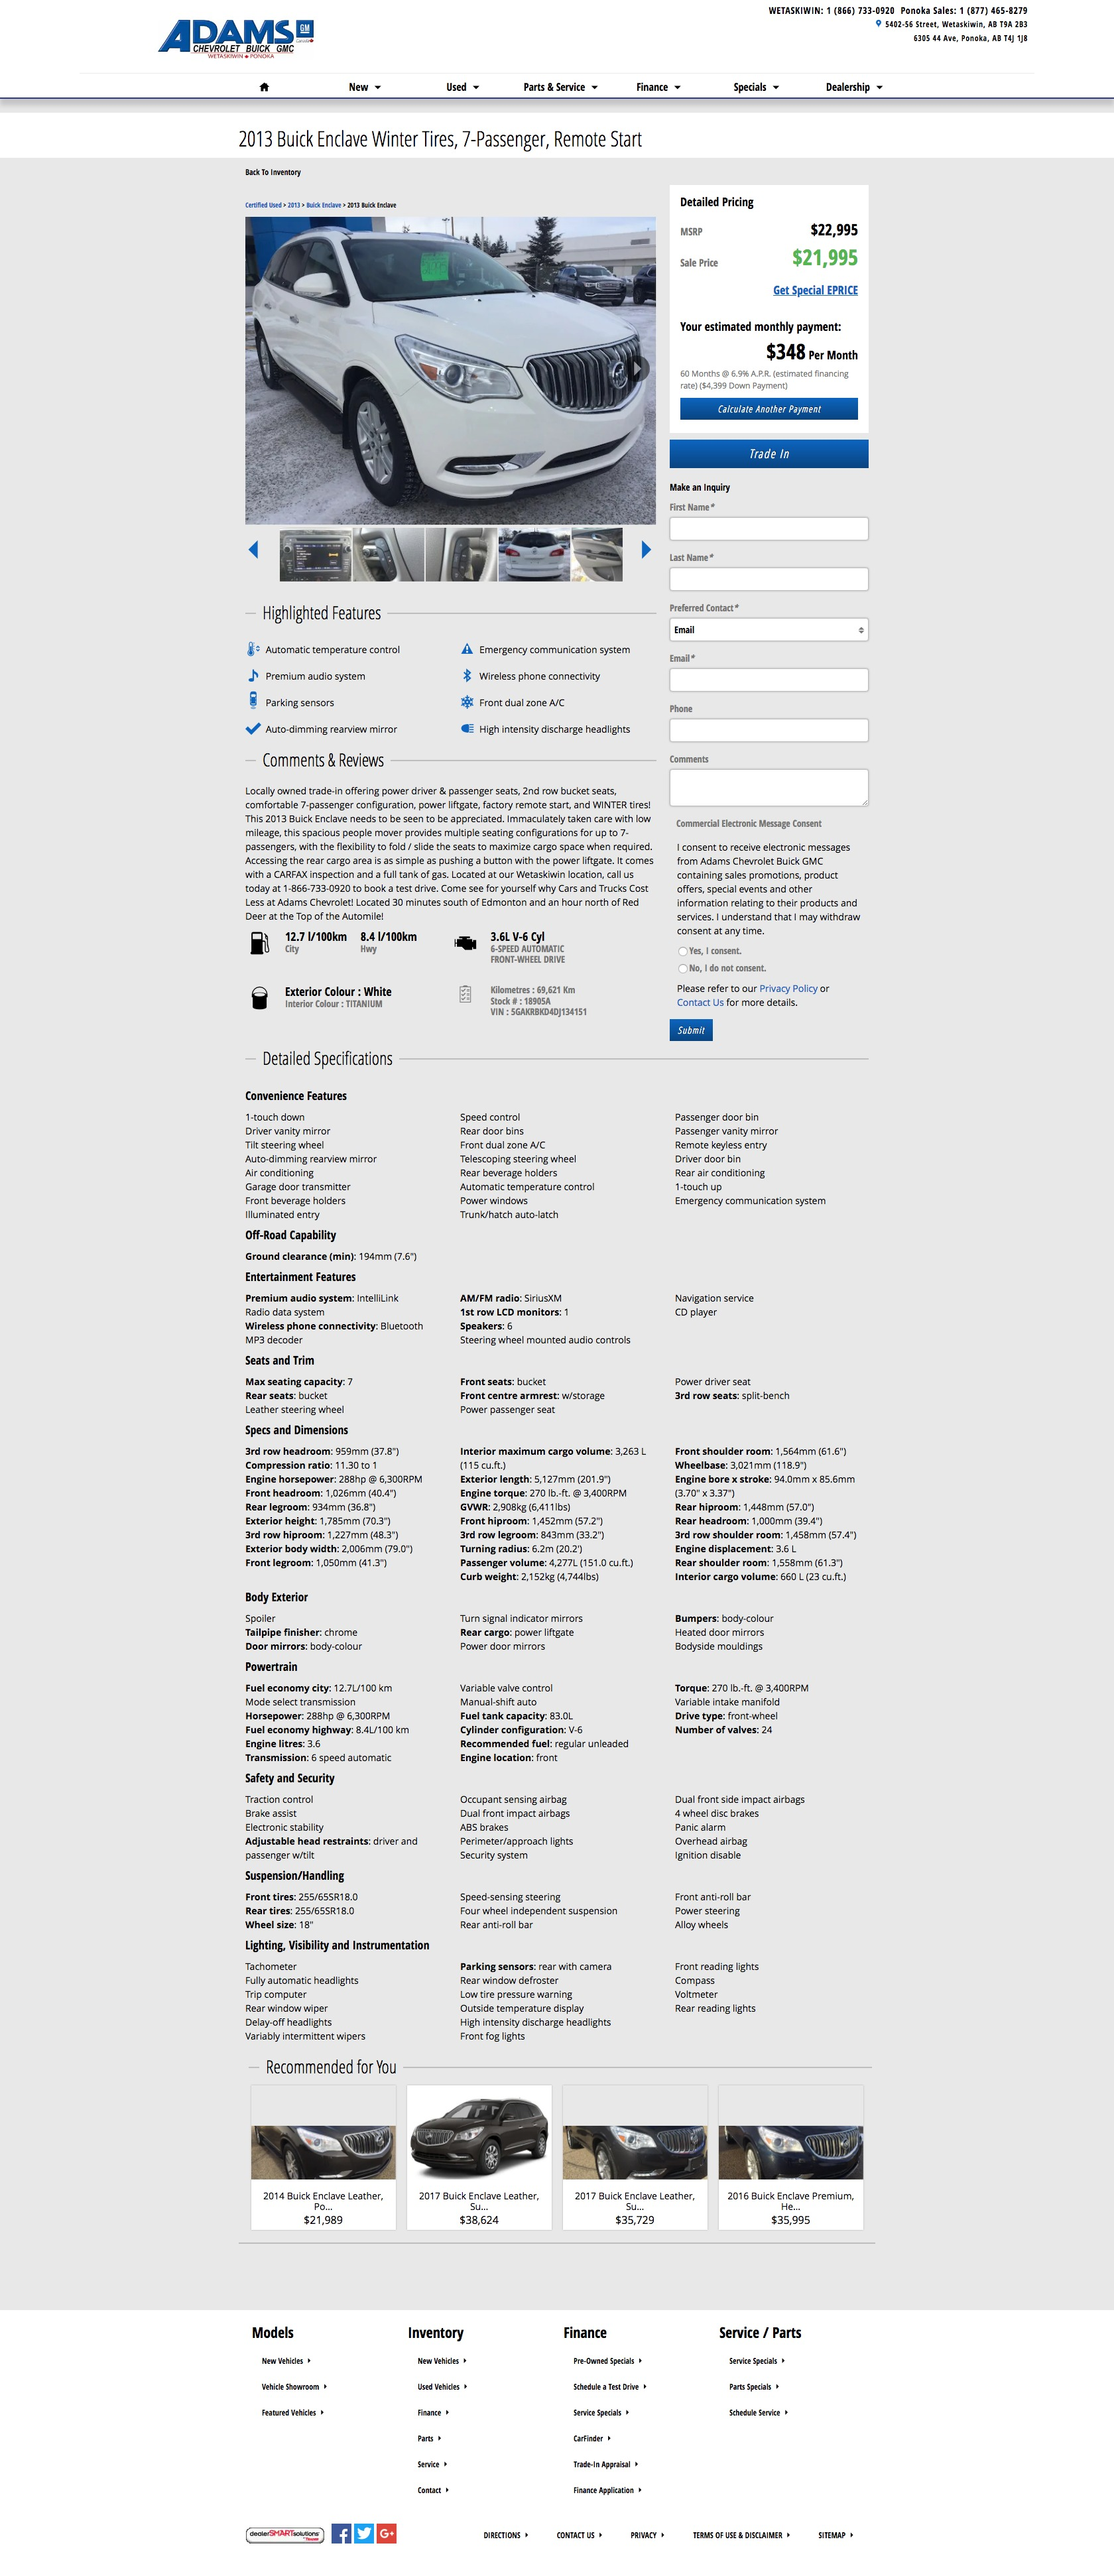car: (641, 541, 652, 560)
